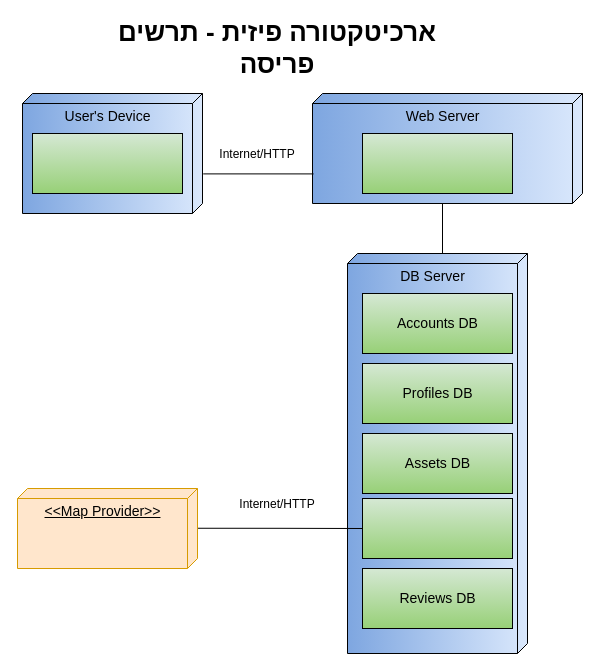
This 600x671 diagram has some shape labels left out. The shapes that lost their labels are listed below. From the top down, each one's centre as x and y in pixels, then its label:
At (x=107, y=163): "Web Browser App".
At (x=437, y=163): "GetAgent.php".
At (x=437, y=528): "Google Maps API".
